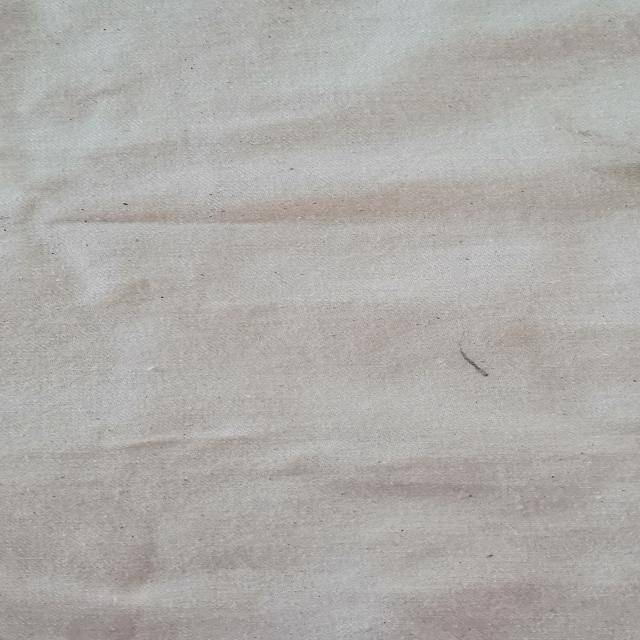taaaches: (426, 342, 530, 403), (581, 142, 640, 185)
